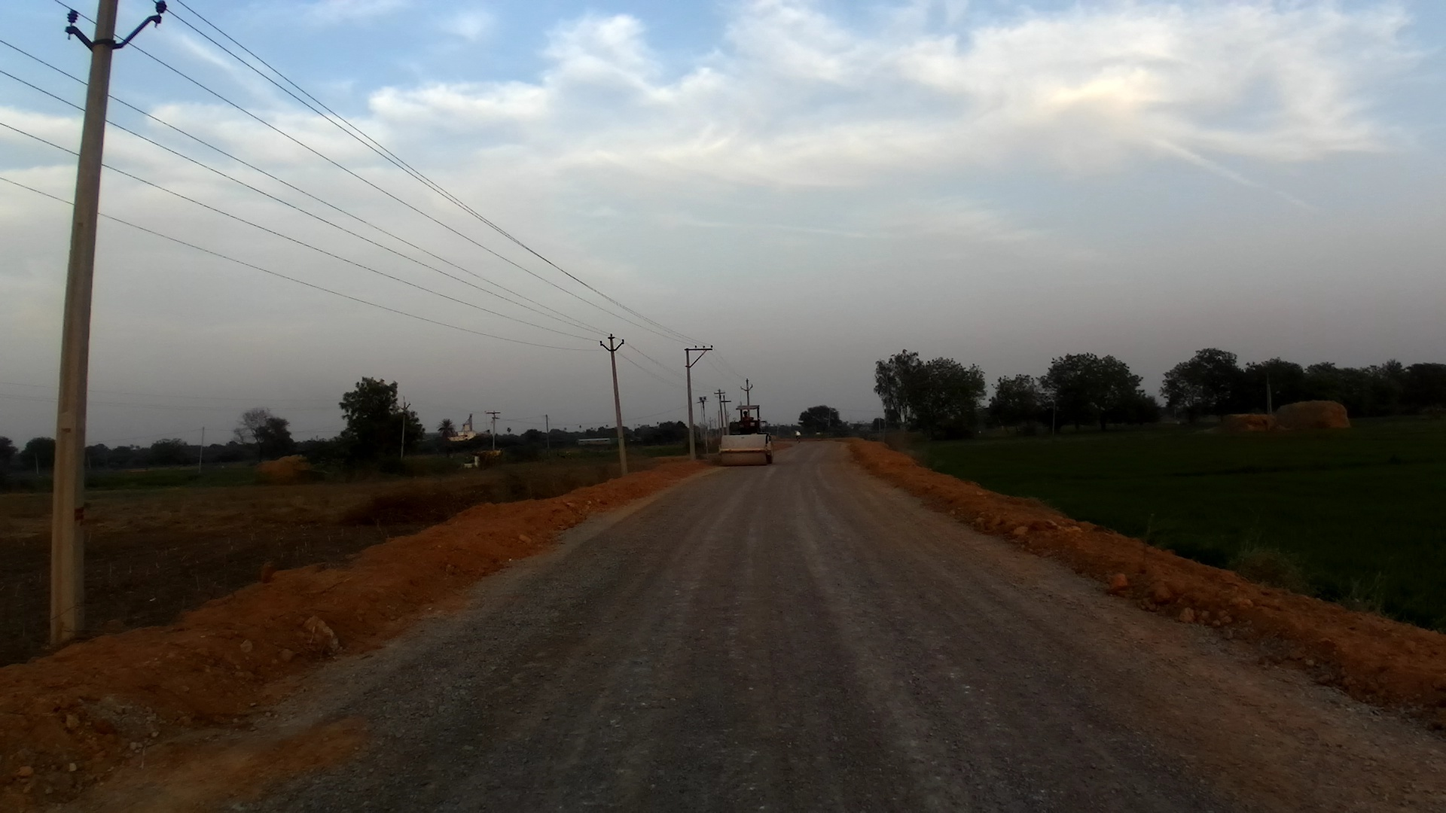bicycle: (796, 435, 805, 443)
rider: (793, 429, 804, 442)
vehicle fallback: (719, 403, 772, 470)
